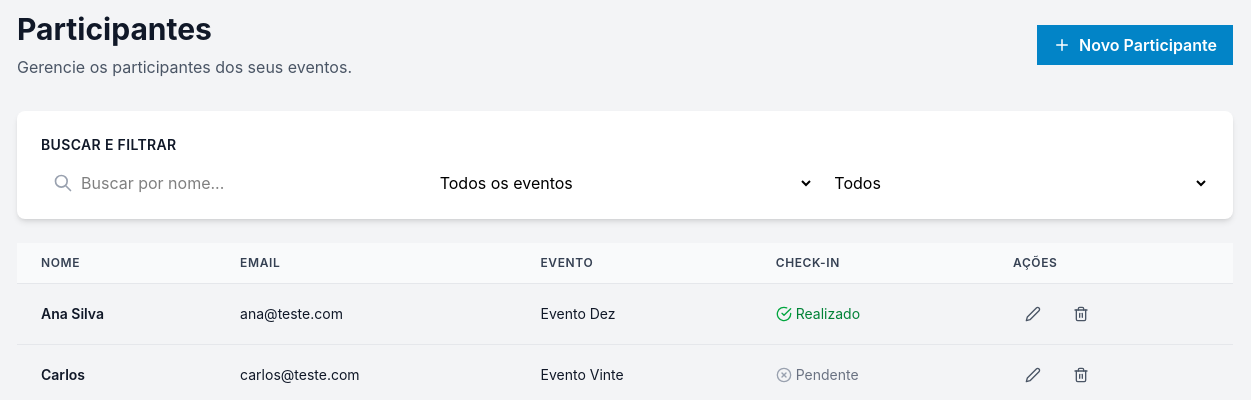
Participants Page › should filter participants by name
Expected: the text "Ana Silva" is shown, [41,305,104,322]
Type "Carlos" into the field with placeholder "Buscar por nome...". click: (230, 183)
box: [41,171,420,195]
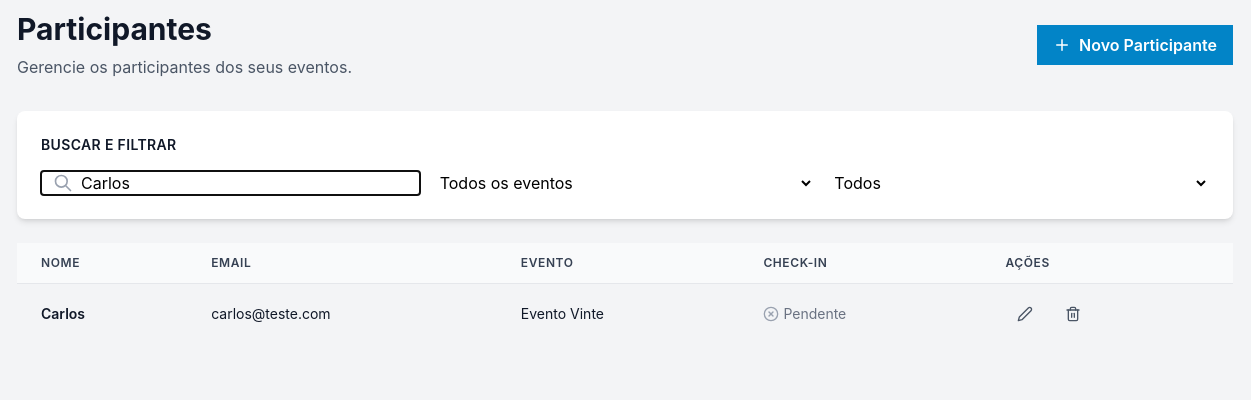
Expected: the text "Carlos" is shown, [41,305,85,322]
Expected: the text "Ana Silva" is gone
